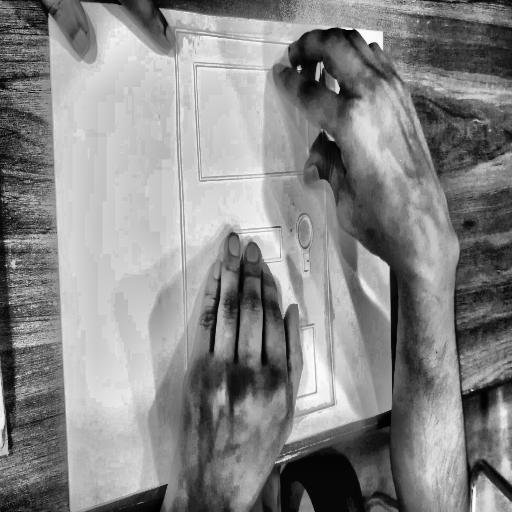bottom_right: (390, 402, 396, 414)
door: (170, 14, 341, 463)
top_left: (45, 0, 53, 12)
top_right: (381, 28, 385, 37)
